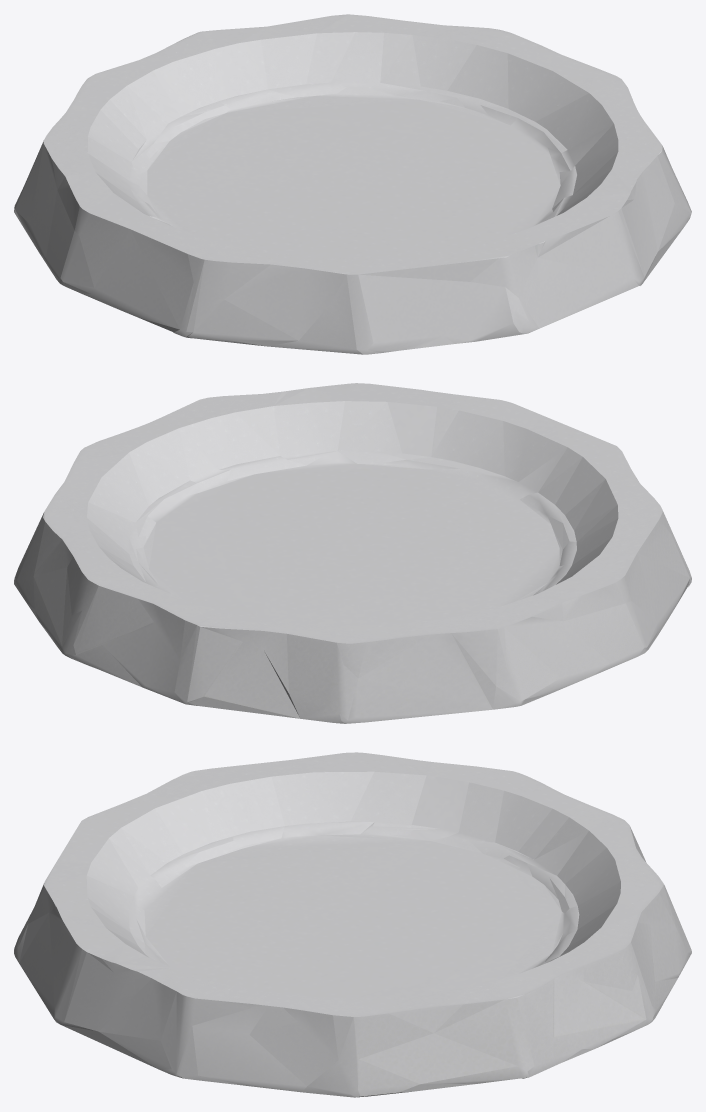
The model's file is crater.glb.
3 views of the same model, one above another, from view 1: azimuth 30°, elevation 25°; view 2: azimuth 150°, elevation 25°; view 3: azimuth 270°, elevation 25° (orthographic).
Bounding box in the file's own units: 1.9 × 0.2133 × 1.89.
Materials: 1 (1 with a texture image).
